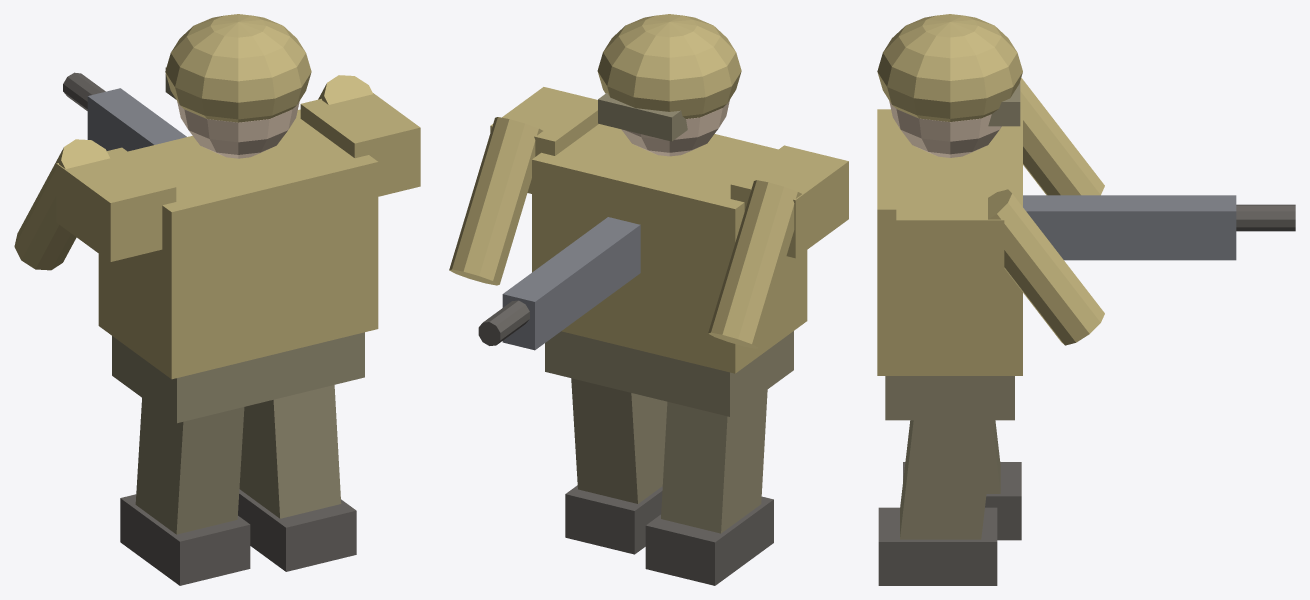
The model's file is dm_rifle.glb.
3 views of the same model, side by side, from view 1: azimuth 30°, elevation 25°; view 2: azimuth 150°, elevation 25°; view 3: azimuth 270°, elevation 25° (orthographic).
Parts seen in each view (by area): view 1: soldier; view 2: soldier; view 3: soldier.
Boxes of the visible parts, bbox=[...] form: soldier: bbox=[14, 14, 420, 585]; soldier: bbox=[449, 14, 848, 585]; soldier: bbox=[877, 14, 1295, 585].
Size of the model in its own units: 0.66 by 1.07 by 0.775.
